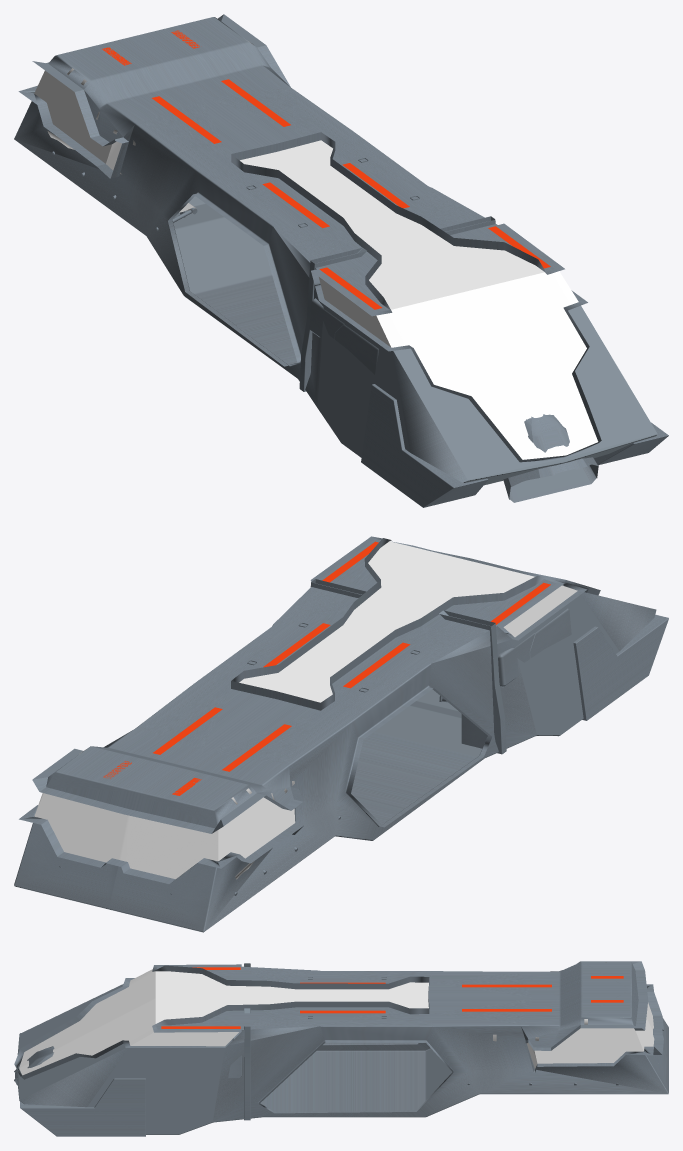
Rendered from Vehicle 2.fbx.
3 views of the same model, one above another, from view 1: azimuth 30°, elevation 25°; view 2: azimuth 150°, elevation 25°; view 3: azimuth 270°, elevation 25° (orthographic). The views are drawn at different scales.
Parts seen in each view (by area): view 1: Vehicle Shell Inside.002, Glass Inside.002, Wall Details.002, table.003, Lights.002, Box.011; view 2: Vehicle Shell Inside.002, Glass Inside.002, Wall Details.002, Lights.002, Box.011; view 3: Vehicle Shell Inside.002, Glass Inside.002, Wall Details.002, Lights.002, table.003.
Boxes of the visible parts, x1=… form: Vehicle Shell Inside.002: x1=14, y1=14, x2=657, y2=485; Glass Inside.002: x1=34, y1=70, x2=598, y2=459; Wall Details.002: x1=246, y1=158, x2=668, y2=507; table.003: x1=503, y1=414, x2=598, y2=502; Lights.002: x1=102, y1=30, x2=550, y2=309; Box.011: x1=309, y1=298, x2=378, y2=374; Vehicle Shell Inside.002: x1=14, y1=536, x2=656, y2=932; Glass Inside.002: x1=34, y1=541, x2=577, y2=879; Wall Details.002: x1=247, y1=579, x2=668, y2=754; Lights.002: x1=103, y1=541, x2=550, y2=795; Box.011: x1=498, y1=608, x2=571, y2=687; Vehicle Shell Inside.002: x1=14, y1=961, x2=668, y2=1134; Glass Inside.002: x1=19, y1=969, x2=654, y2=1075; Wall Details.002: x1=20, y1=963, x2=386, y2=1136; Lights.002: x1=161, y1=967, x2=623, y2=1028; table.003: x1=14, y1=1046, x2=54, y2=1085.
Size of the model in its own units: 379 by 247 by 1328.
